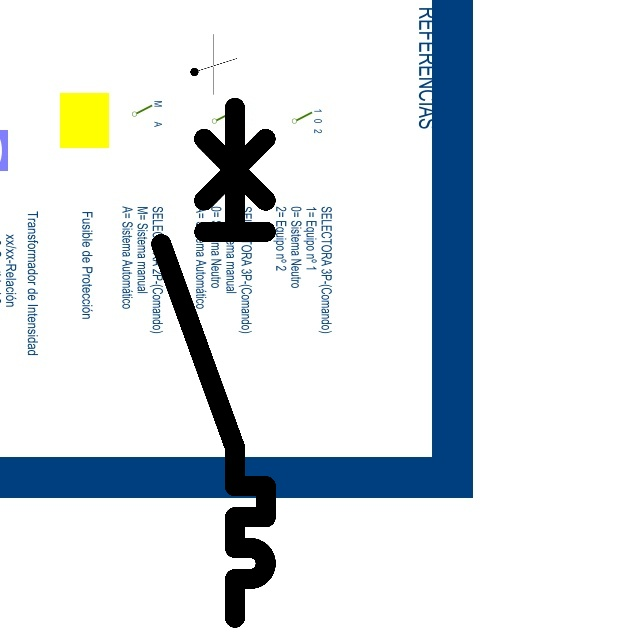interruptor_termomagnetico: (148, 94, 279, 631)
